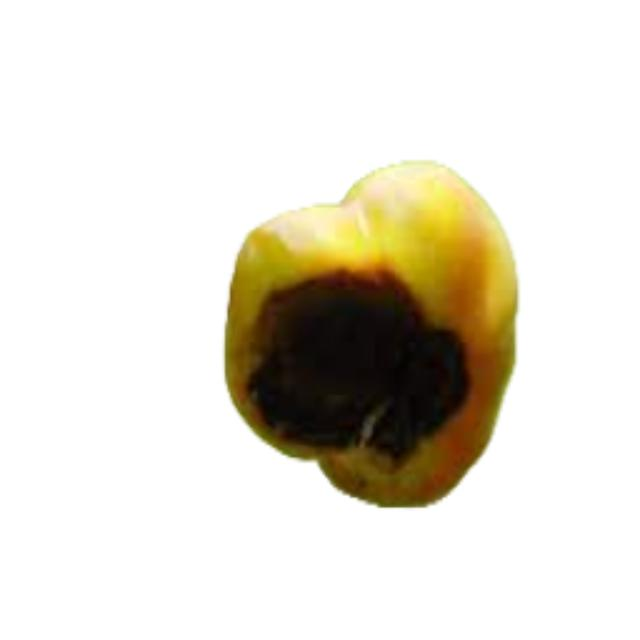defect: (220, 155, 522, 509)
